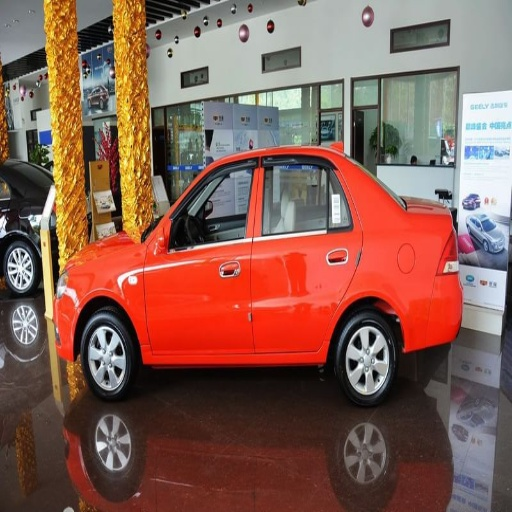back_bumper: (405, 318, 458, 353)
back_left_door: (250, 154, 360, 352)
